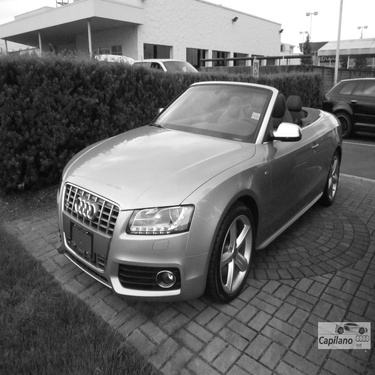car: (44, 78, 345, 310), (322, 66, 370, 145), (126, 48, 201, 92), (93, 44, 141, 74)
